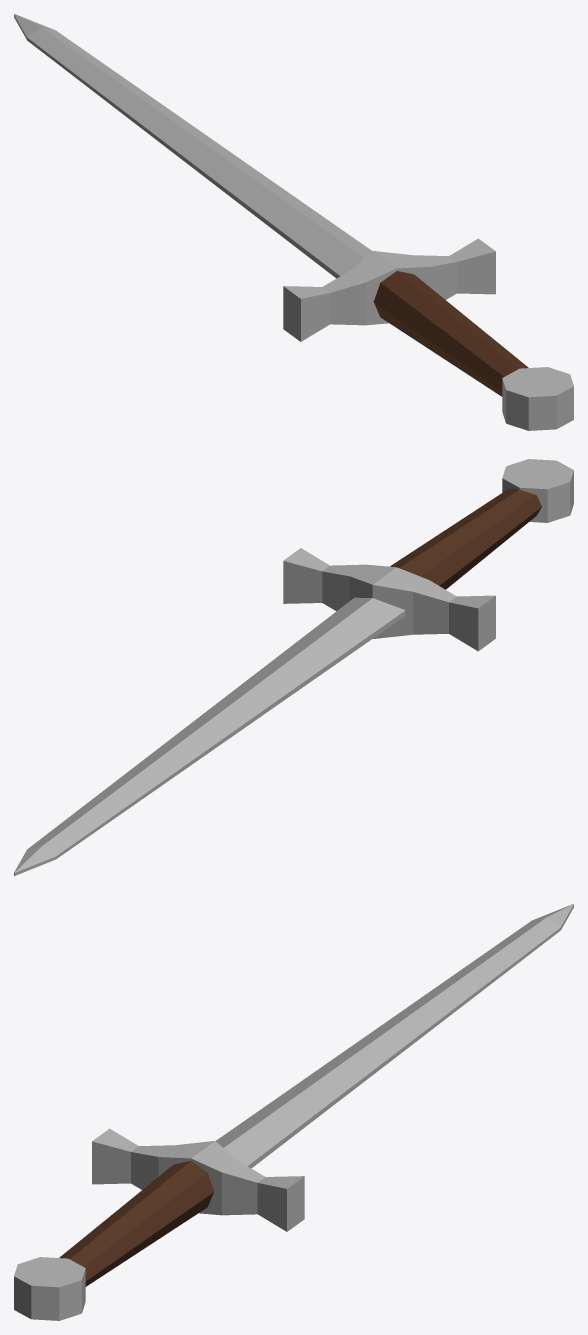
The model's file is Sword.fbx.
3 renders of one model, top to bottom at view 1: azimuth 30°, elevation 25°; view 2: azimuth 150°, elevation 25°; view 3: azimuth 330°, elevation 25°, orthographic.
Parts seen in each view (by area): view 1: Sword, Handle; view 2: Sword, Handle; view 3: Sword, Handle.
Part boxes in pixels (<box>): Sword: <box>14,14,573,430</box>; Handle: <box>373,271,528,396</box>; Sword: <box>14,459,573,875</box>; Handle: <box>390,488,541,589</box>; Sword: <box>14,904,573,1320</box>; Handle: <box>59,1161,214,1286</box>.
Bounding box in the file's own units: 0.0933 × 0.0248 × 0.4489.
